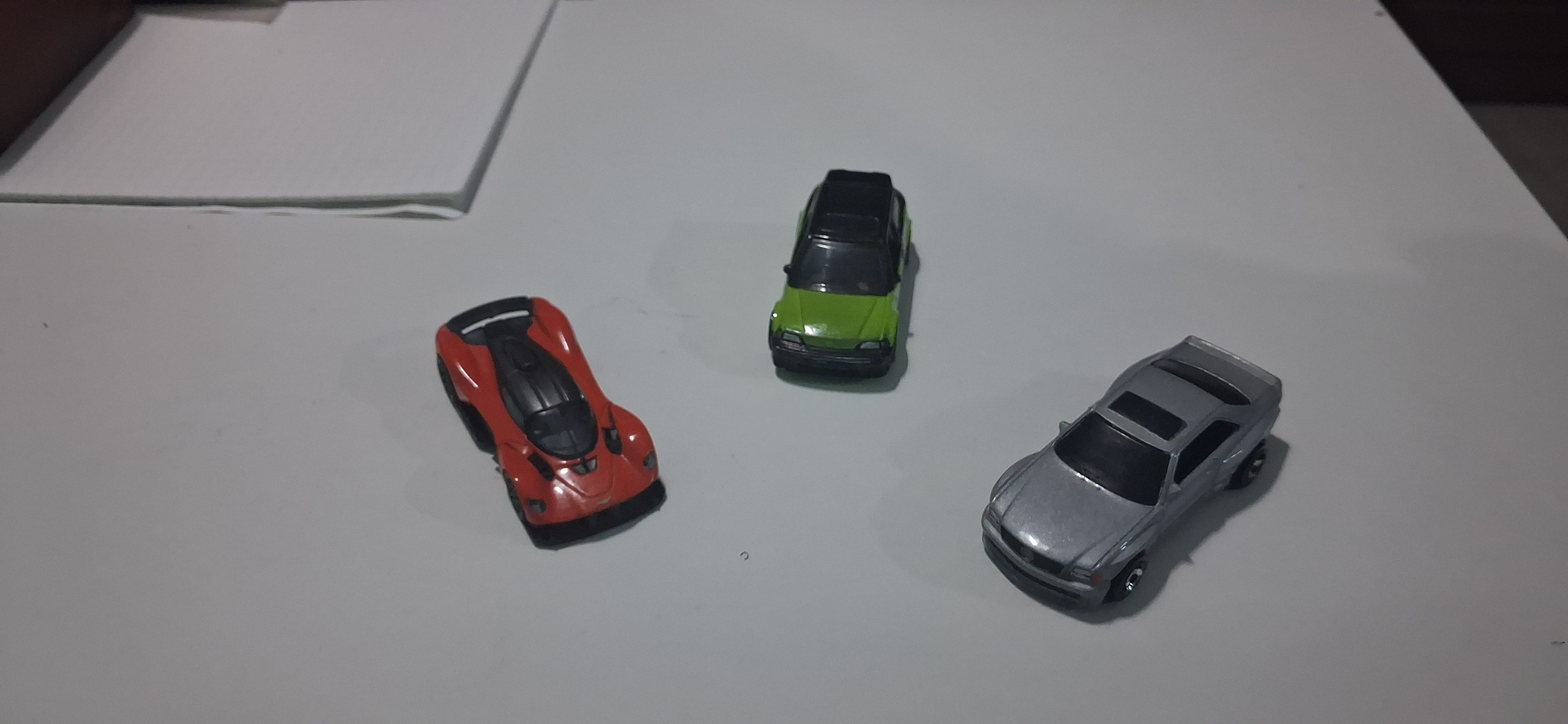Aston_Martin_Valkyrie: (397, 285, 700, 578)
Honda_Civic: (713, 127, 958, 426)
Mercedes_Benz_560_SEC_AMG: (954, 315, 1323, 641)
